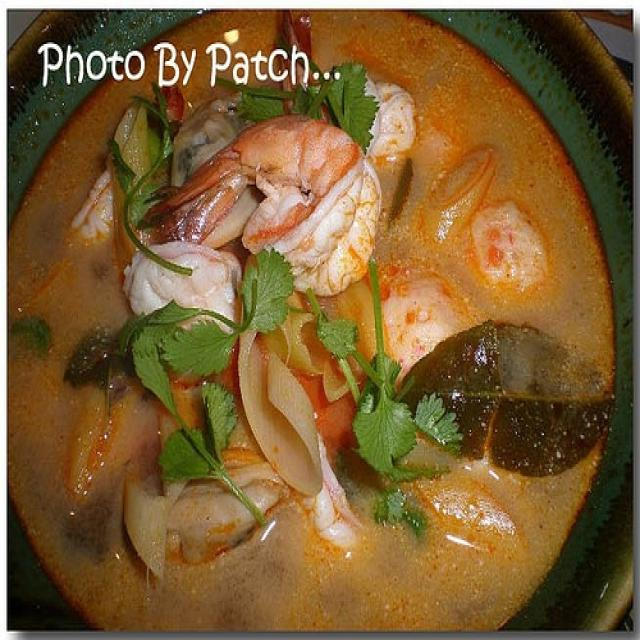汤锅炖物: (19, 25, 603, 620)
